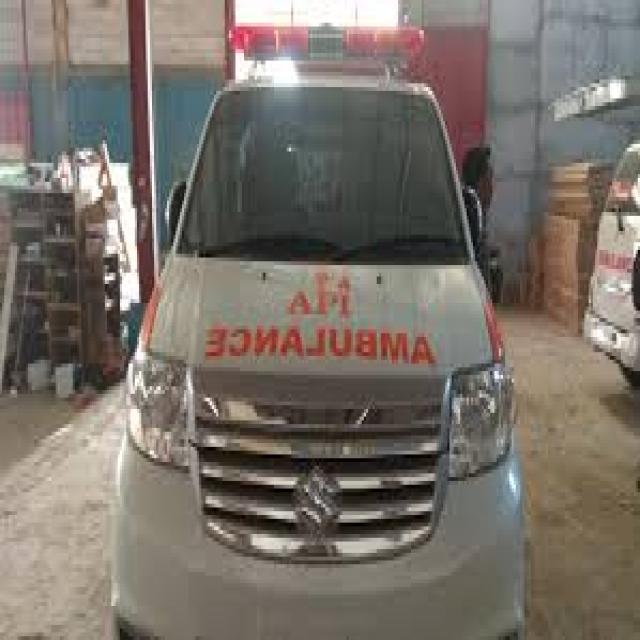emergency-vehicle: (116, 23, 526, 636)
